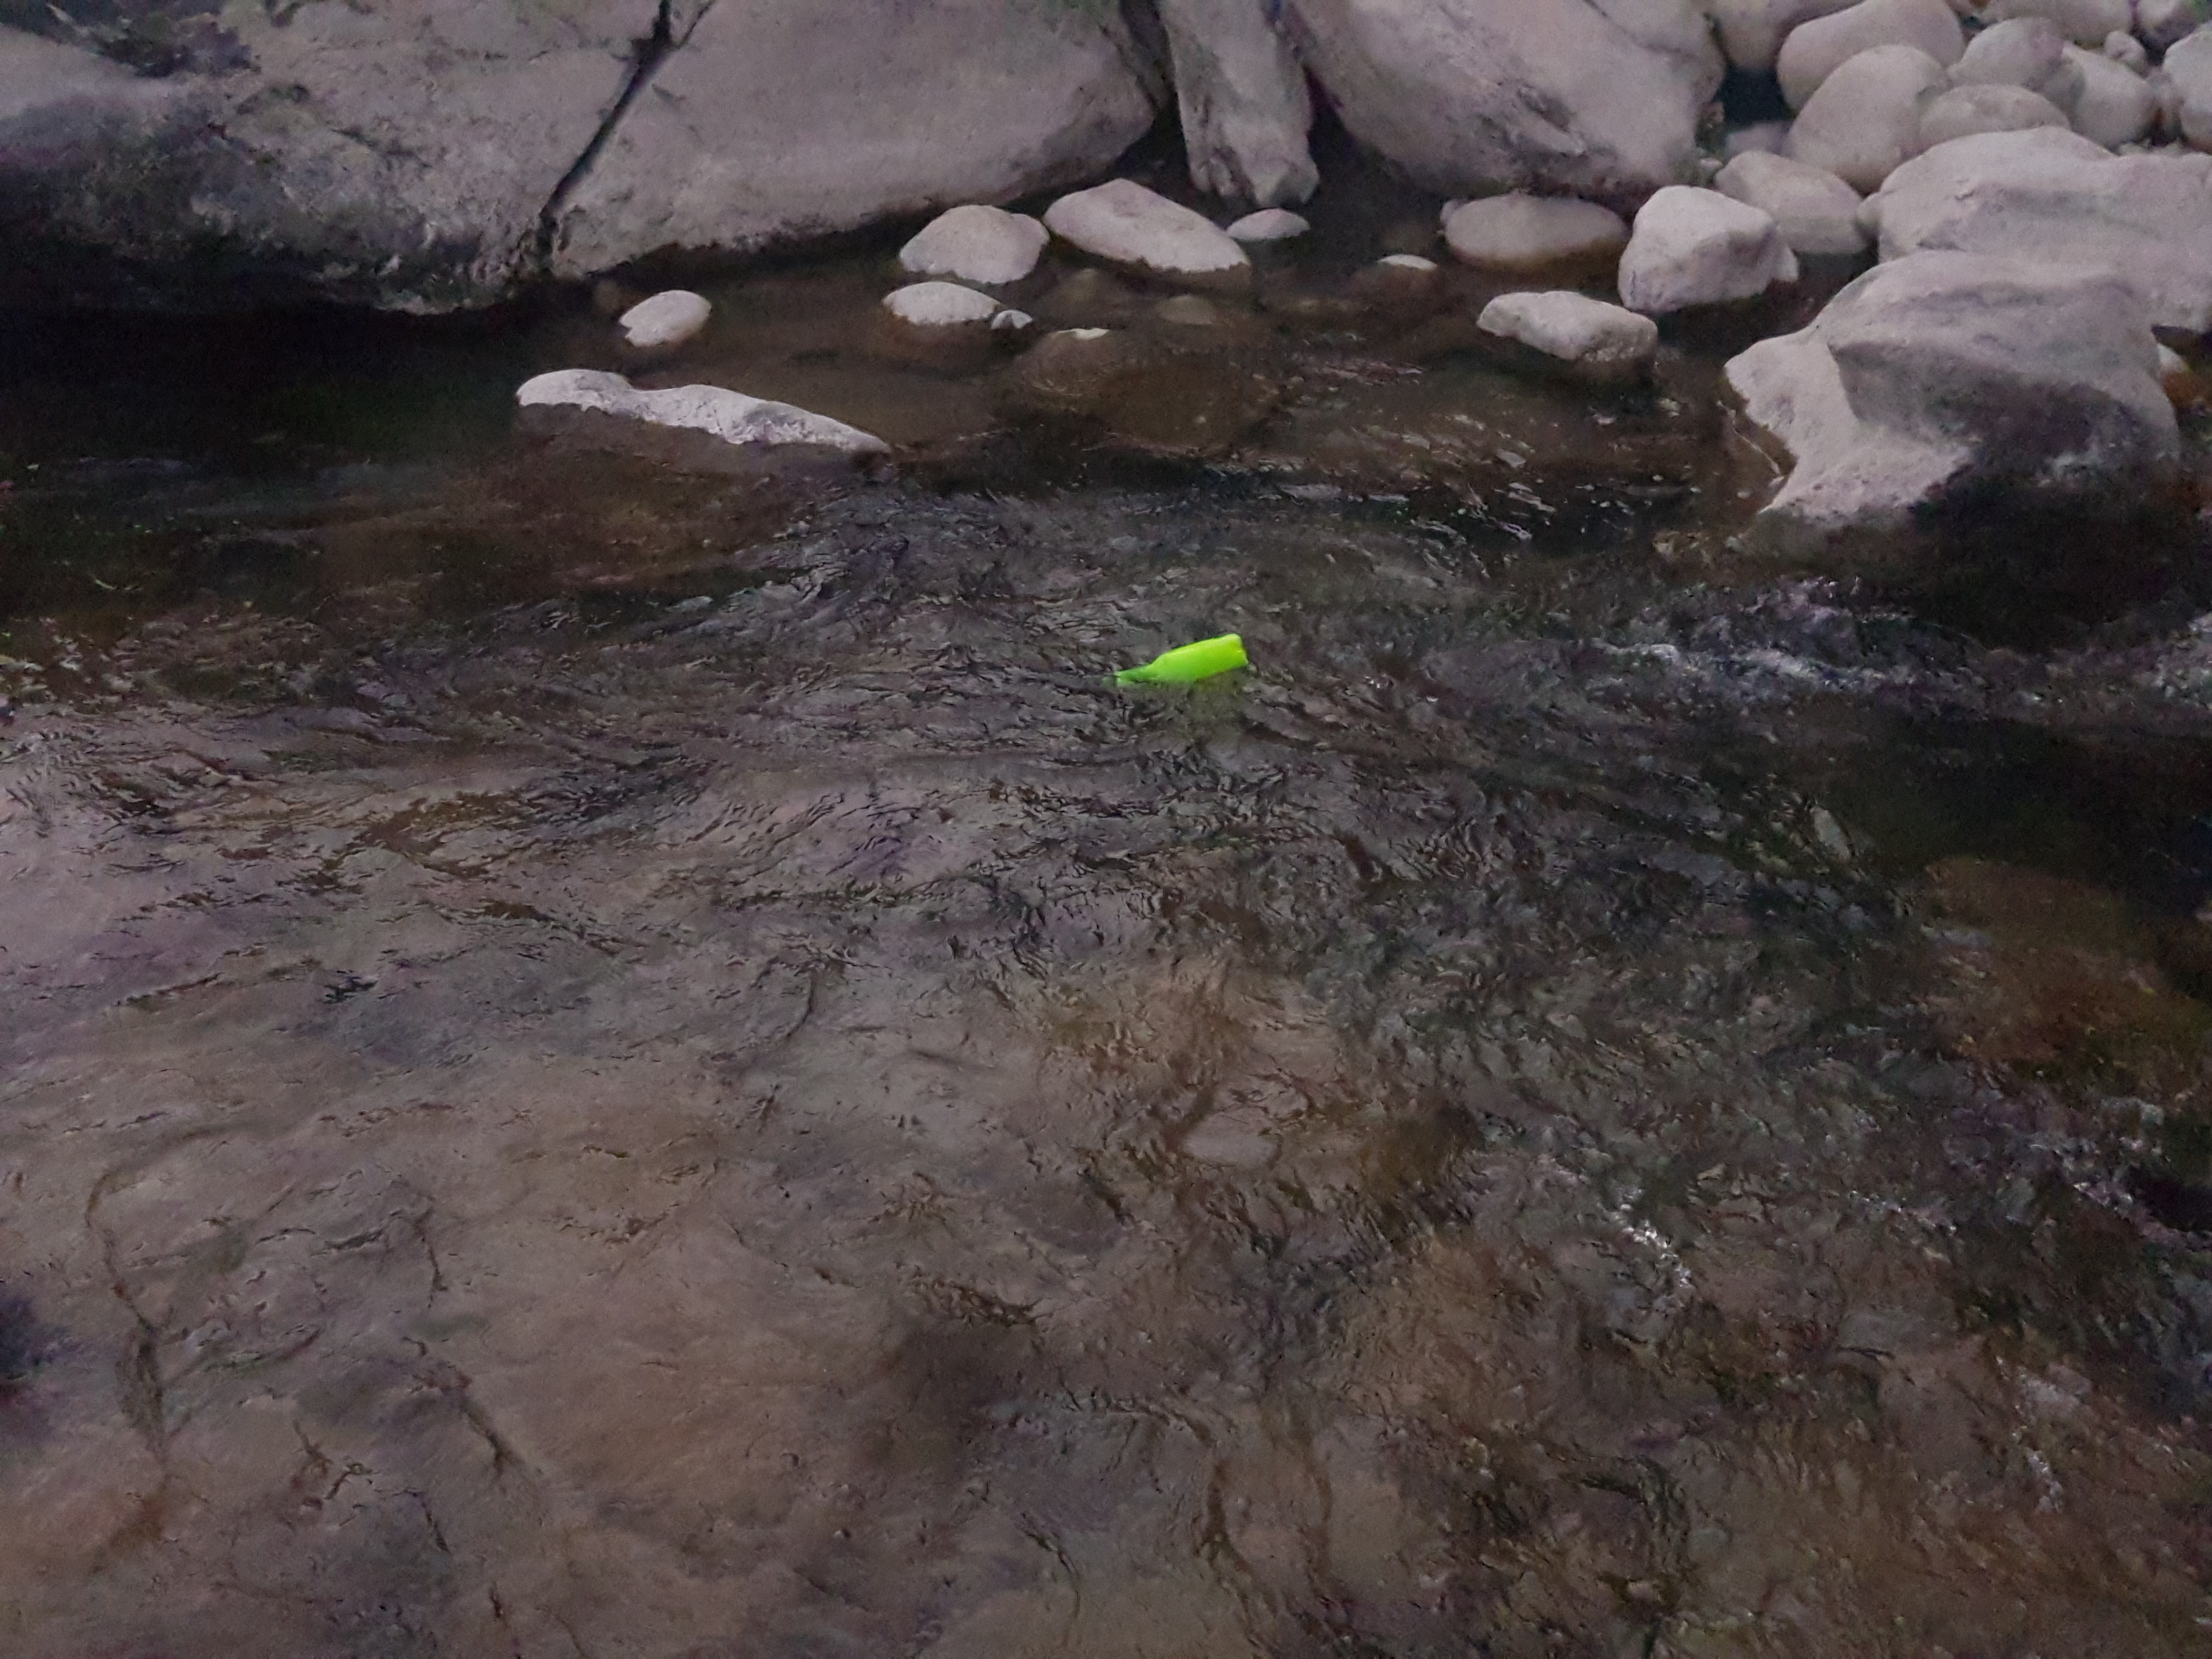Plastic Bottle: (1116, 633, 1245, 678)
